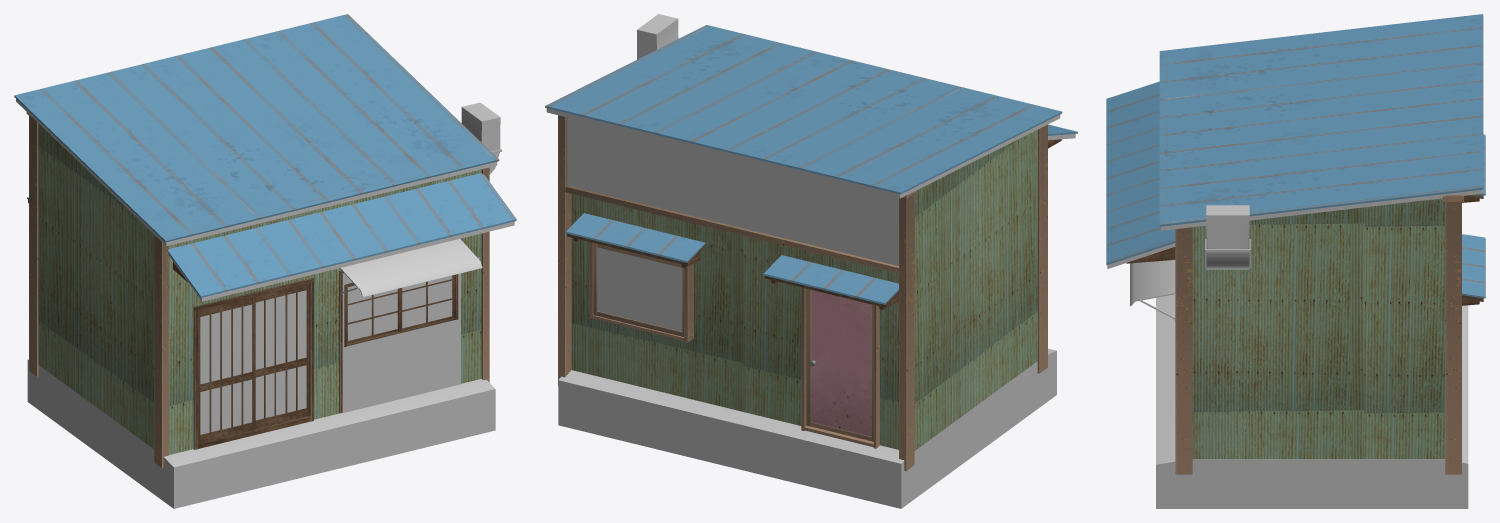
The model's file is ms_small_3.fbx.
3 renders of one model, left to right at view 1: azimuth 30°, elevation 25°; view 2: azimuth 150°, elevation 25°; view 3: azimuth 270°, elevation 25°, orthographic. The views are drawn at different scales.
Parts seen in each view (by area): view 1: ms_small_3; view 2: ms_small_3; view 3: ms_small_3.
Part boxes in pixels (left/top/right/bottom): ms_small_3: left=14, top=14, right=516, bottom=508; ms_small_3: left=545, top=14, right=1077, bottom=508; ms_small_3: left=1106, top=14, right=1485, bottom=508.
Size of the model in its own units: 650 by 527 by 559.
